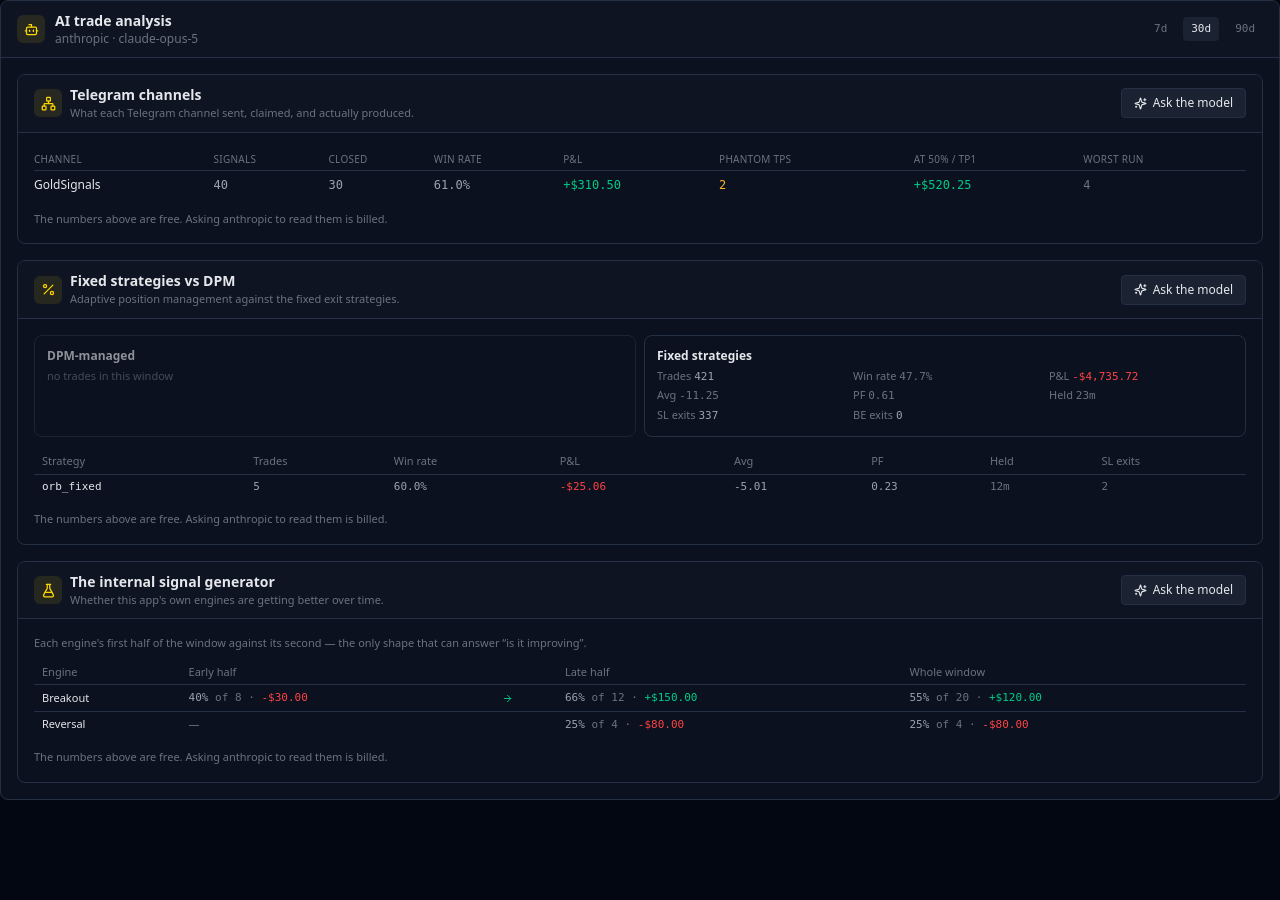
Test: what costs money › drops the answers when the window changes
expect the text "GoldSignals" is shown: met, box [34, 170, 214, 199]
Click the button "Ask the model" in the row of "Telegram channels" at (1183, 103), box [1121, 88, 1246, 118]
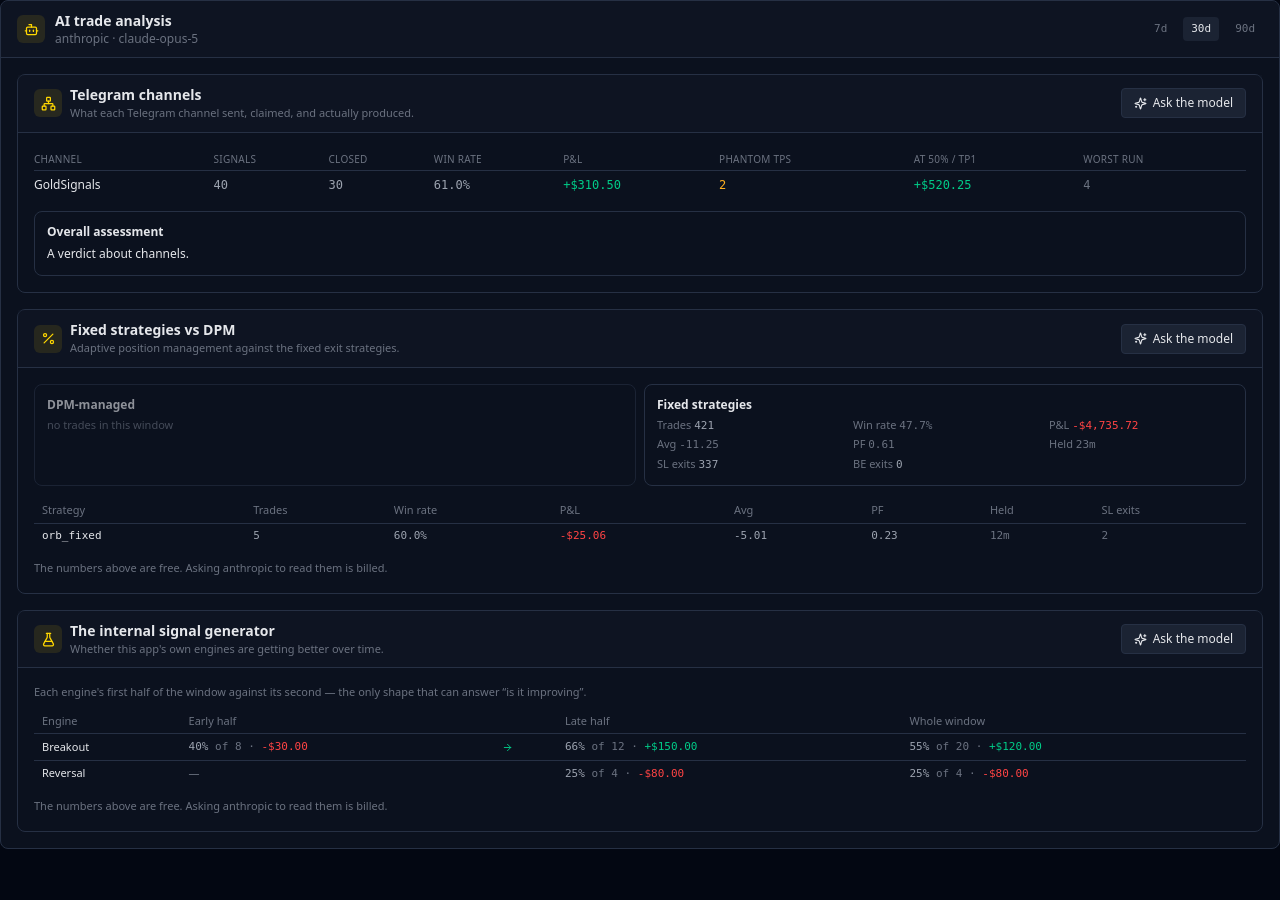
expect the element with test id "ai-answer" is shown: met, box [34, 211, 1246, 276]
Click the button "90d" at (1245, 29), box [1227, 17, 1263, 41]
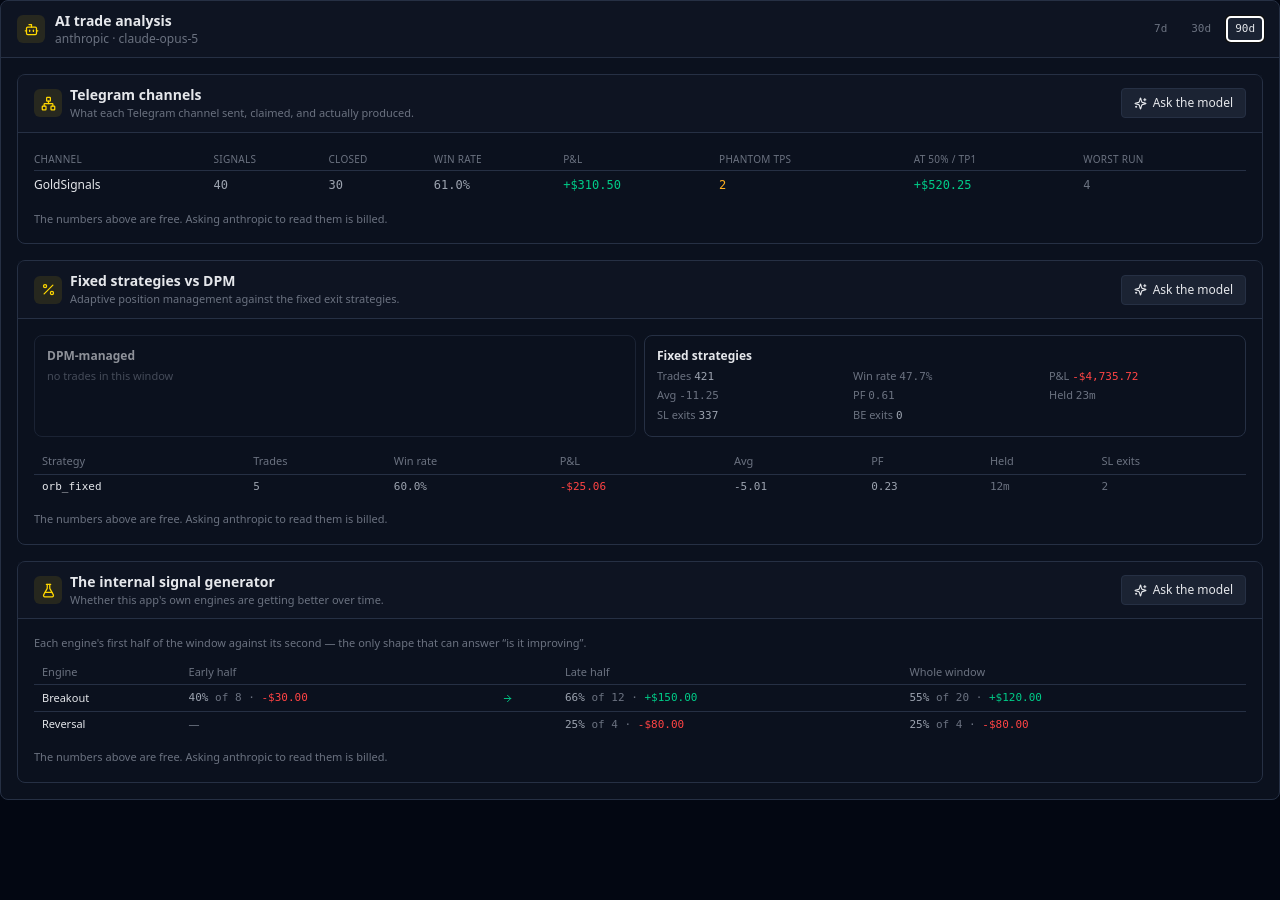
expect the element with test id "ai-answer" is gone: met
